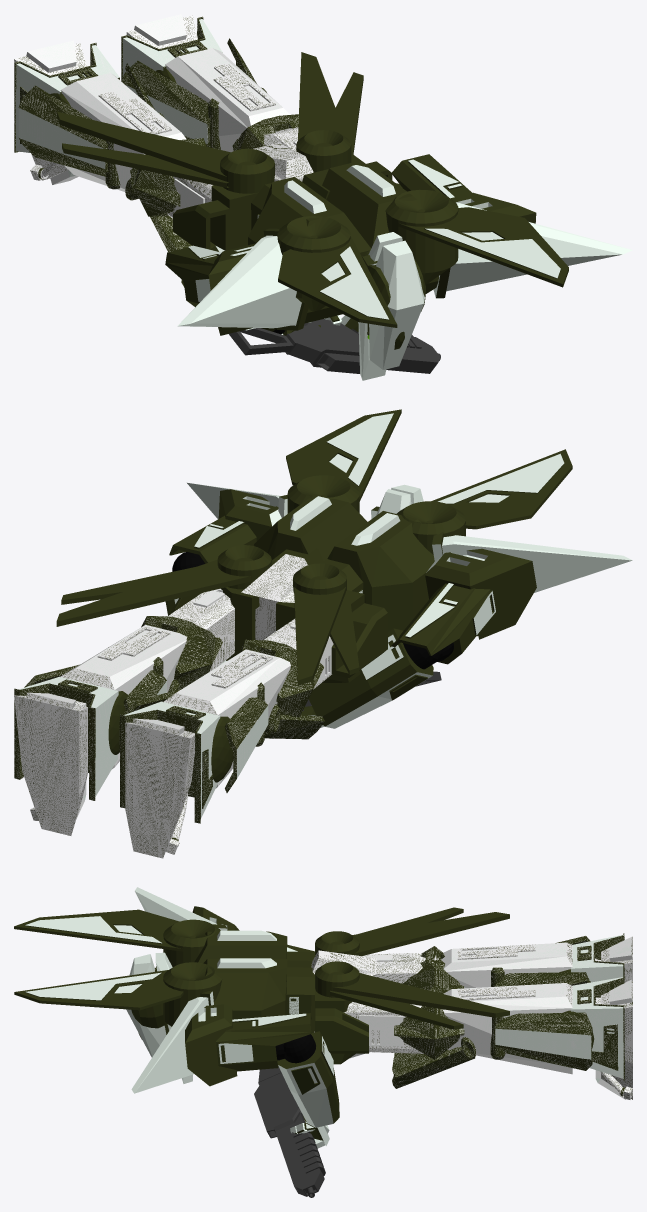
3 renders of one model, top to bottom at view 1: azimuth 30°, elevation 25°; view 2: azimuth 150°, elevation 25°; view 3: azimuth 270°, elevation 25°, orthographic. The views are drawn at different scales.
Parts seen in each view (by area): view 1: monarch; view 2: monarch; view 3: monarch.
Boxes of the visible parts, x1,y1,x2,y2 form: monarch: (14, 14, 632, 380); monarch: (14, 409, 632, 858); monarch: (14, 887, 632, 1197).
Size of the model in its own units: 528 by 271 by 769.
